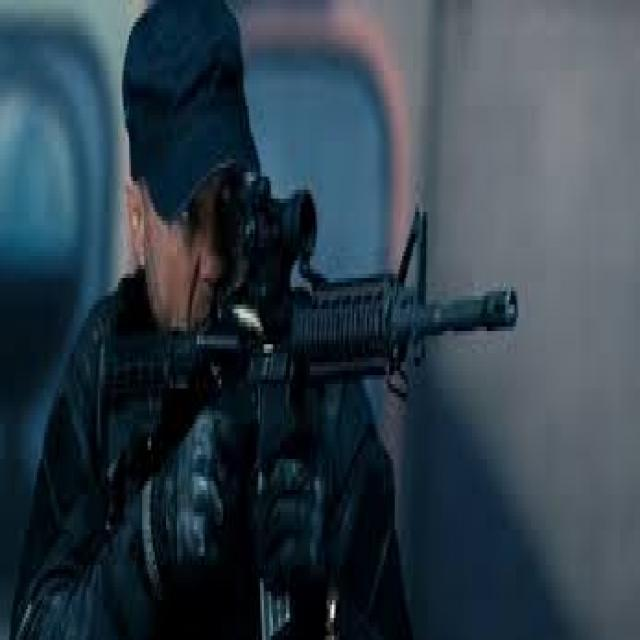weapon: (99, 192, 521, 640)
